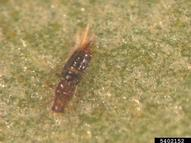Thrips: (56, 23, 91, 117)
